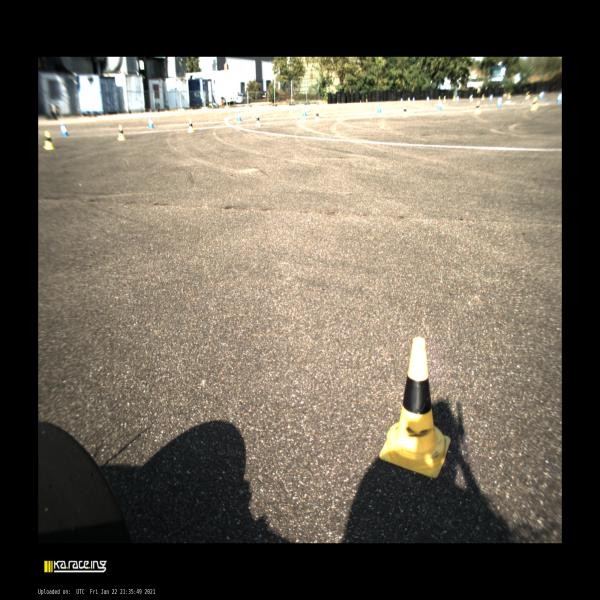blue_cone: (60, 123, 69, 136), (148, 116, 154, 128), (237, 111, 242, 121), (302, 106, 307, 116), (377, 102, 382, 112)
yellow_cone: (379, 337, 451, 478), (44, 131, 54, 150), (117, 124, 126, 140), (187, 118, 195, 132), (530, 96, 538, 110), (474, 102, 482, 114), (255, 114, 261, 126), (314, 110, 320, 122), (402, 105, 407, 117)
